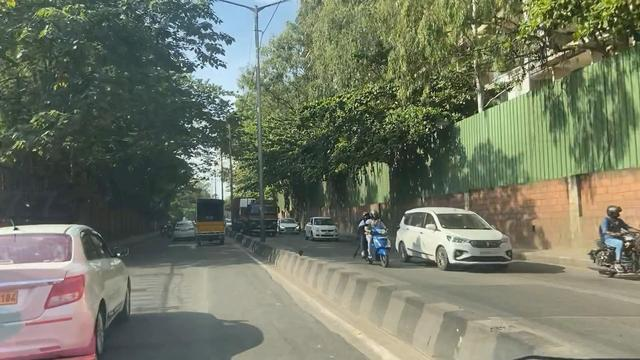HMV: (193, 194, 233, 254)
